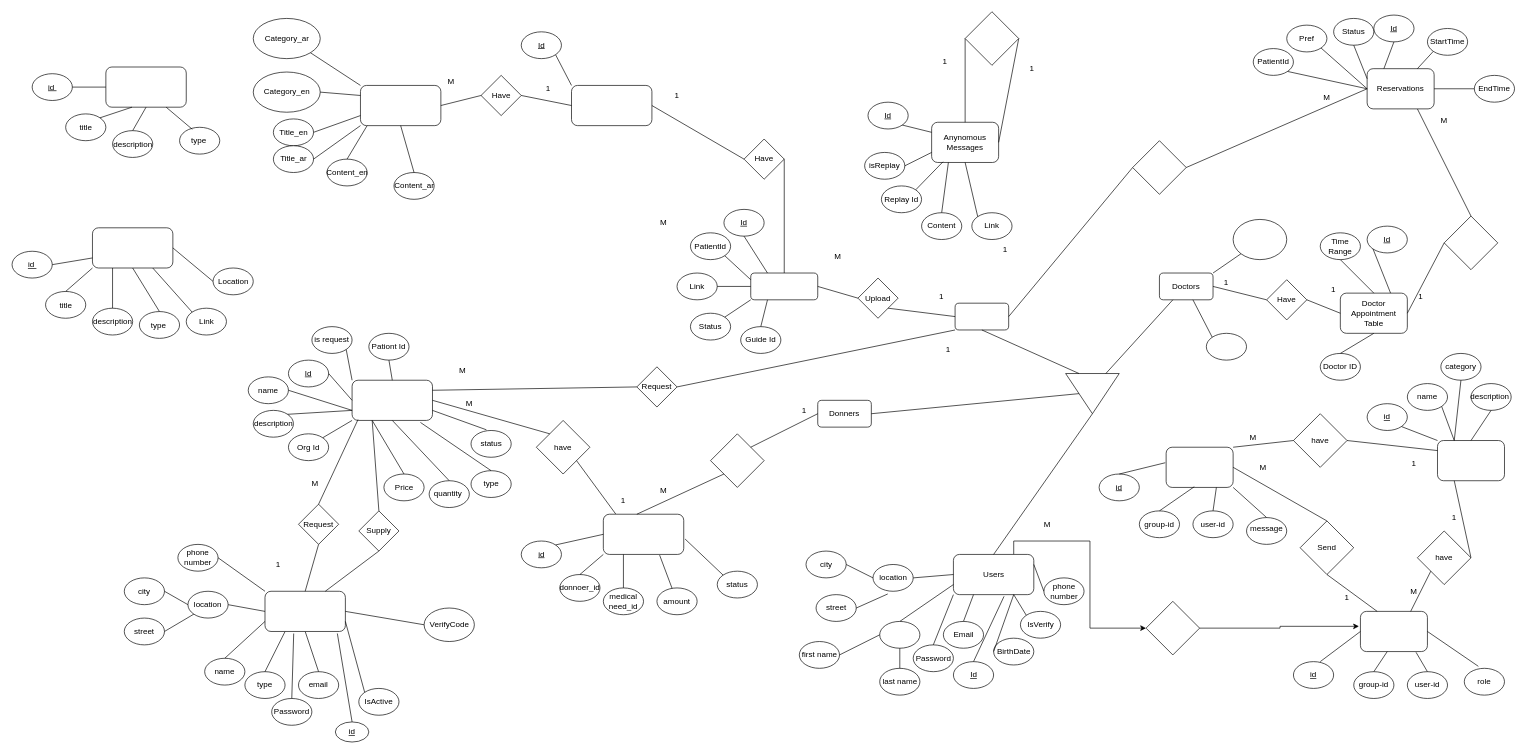
This 1526x754 diagram has some shape labels left out. The shapes that lost their labels are listed below. From the top down, each one's centre as x and y in pixels, then its label:
(x=991, y=38): Replay To
(x=145, y=86): alerts
(x=400, y=105): Health Guide Translation
(x=611, y=105): Health Guide
(x=1159, y=167): Can Reserve
(x=132, y=247): workshop
(x=1259, y=239): Specialization
(x=1471, y=242): Reserved To
(x=784, y=286): Files
(x=981, y=316): Patients
(x=1226, y=346): certificate
(x=391, y=400): medical need
(x=737, y=460): Donate
(x=1199, y=467): group_messages
(x=1470, y=460): SupportGroups
(x=643, y=534): Donations
(x=304, y=611): organization
(x=1172, y=628): join
(x=1393, y=631): group_member
(x=899, y=634): full name
